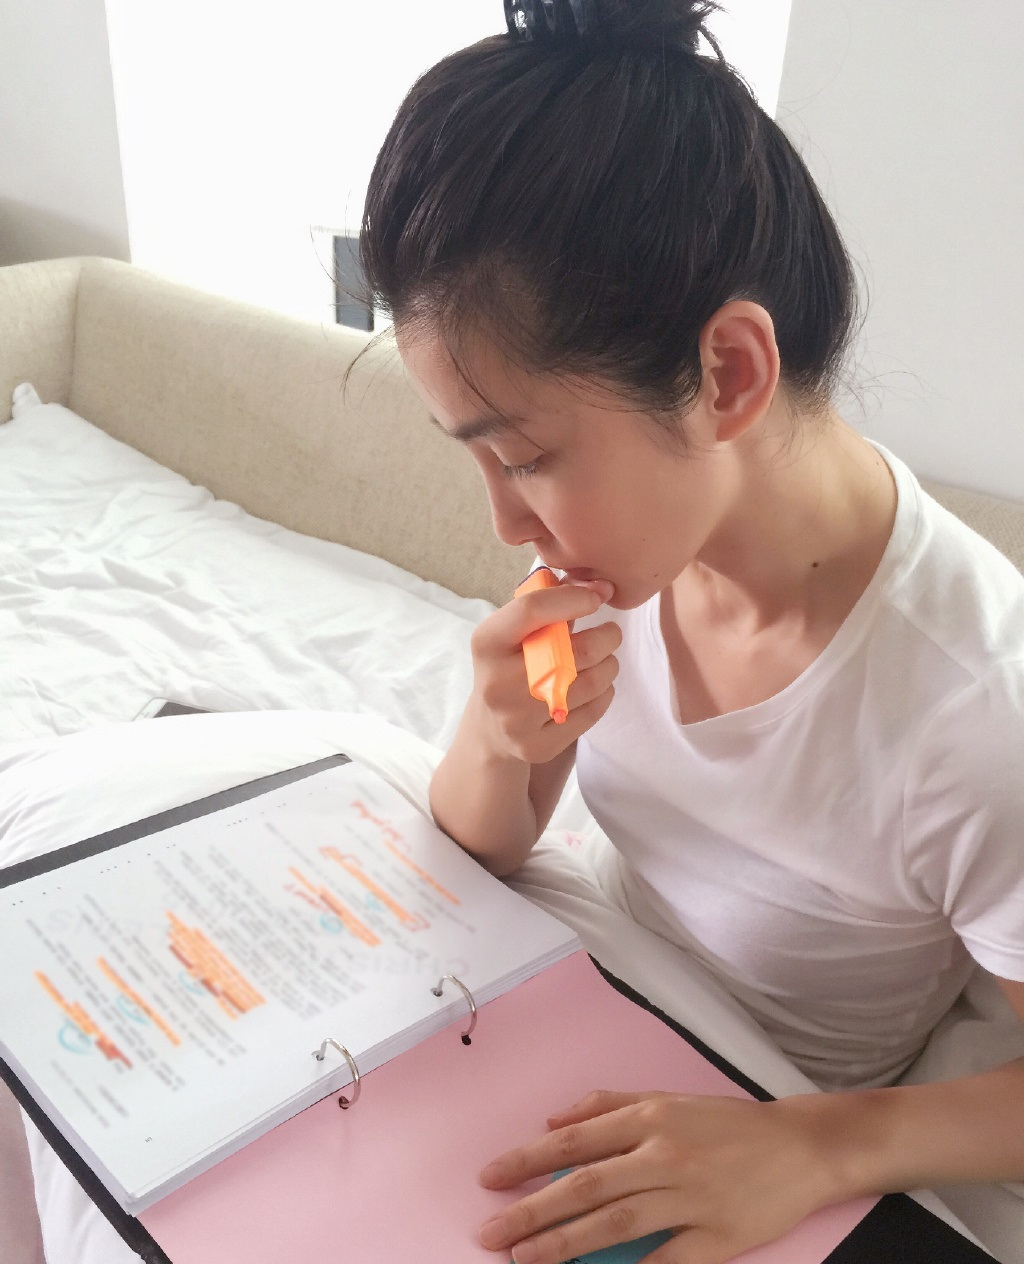face: (404, 249, 704, 619)
